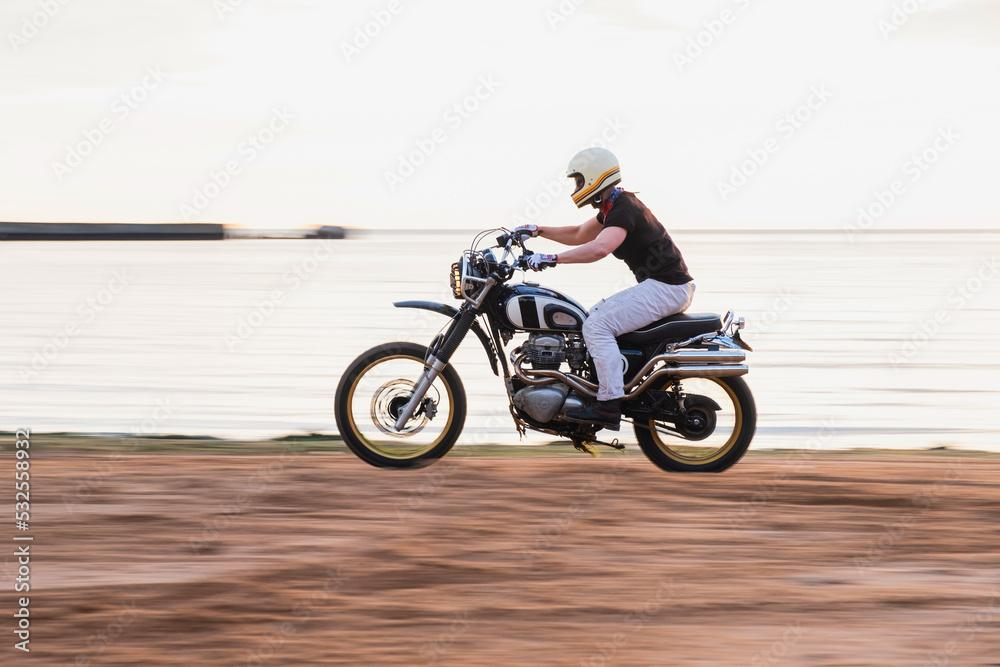helmet: (565, 146, 622, 210)
